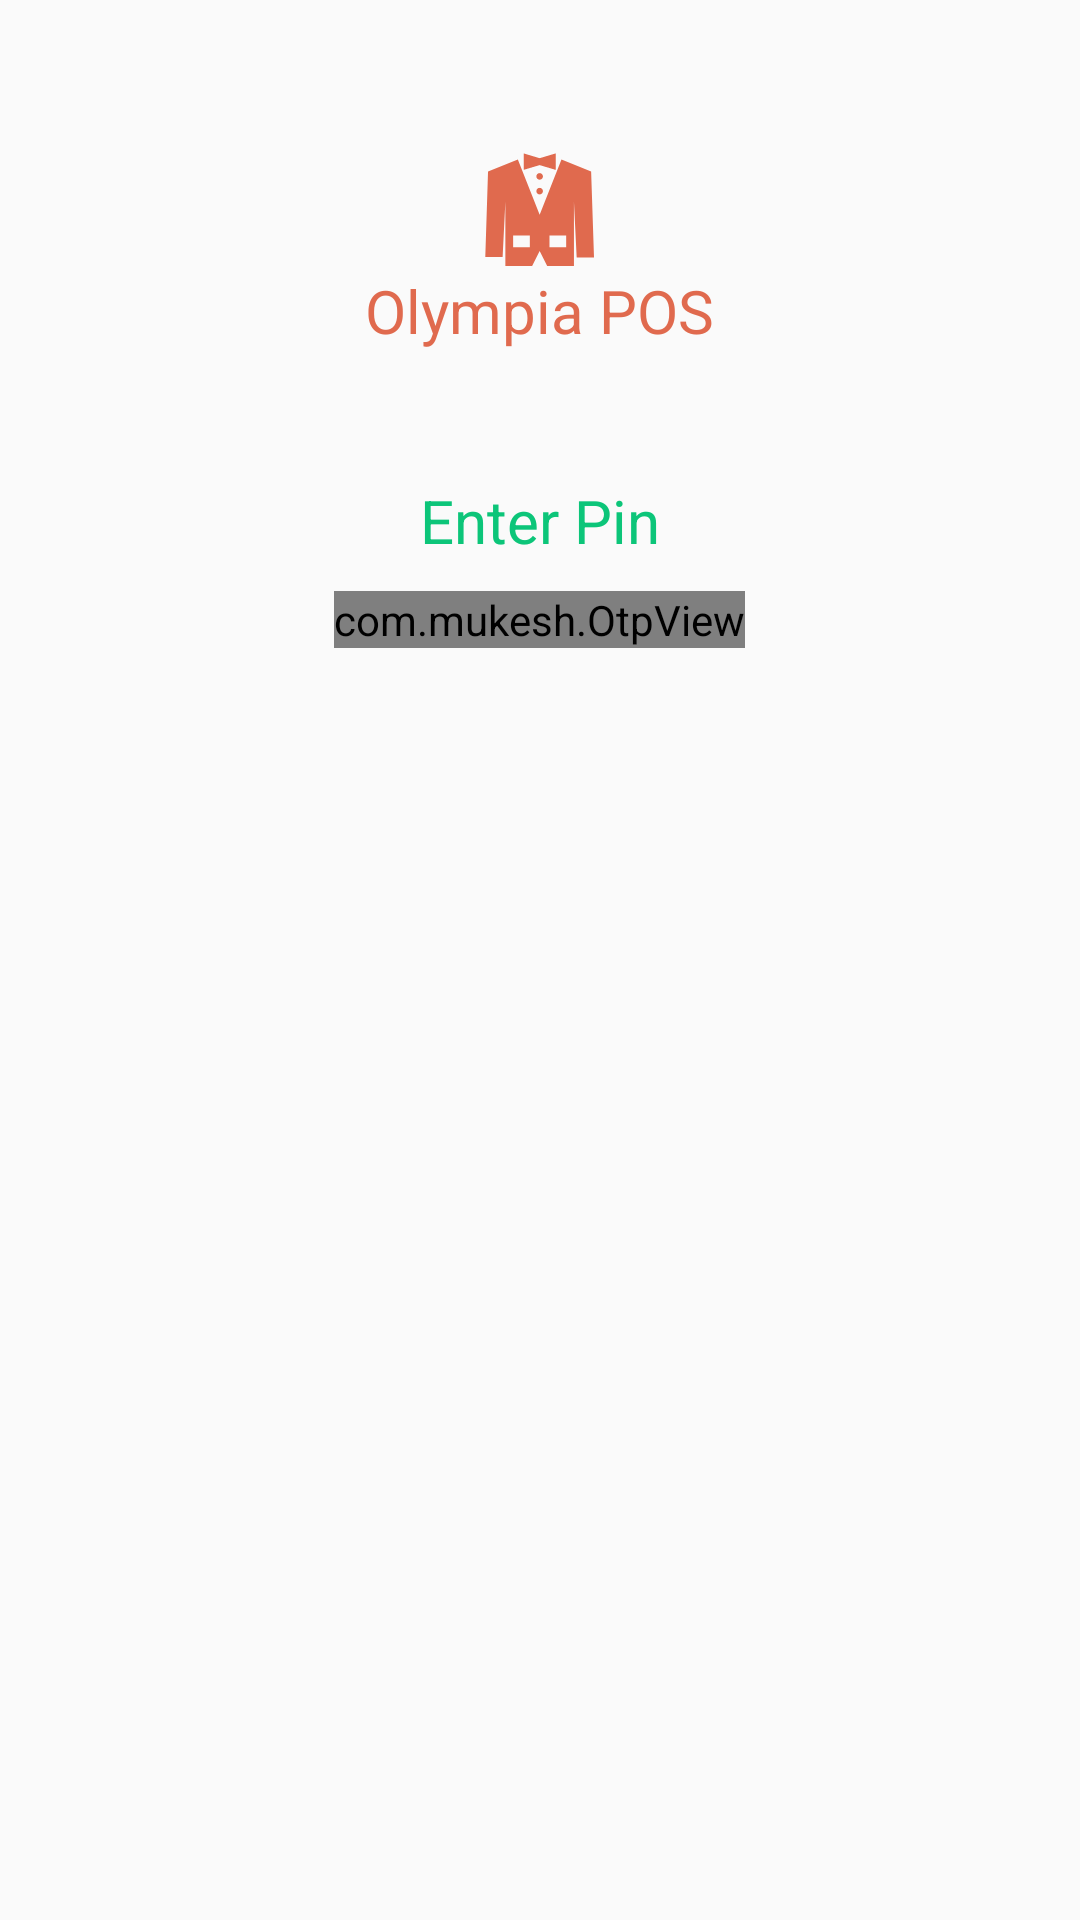

Named icons in this screenshot (1080 × 1920) and their centers, (x,y):
suit: (539,209)
